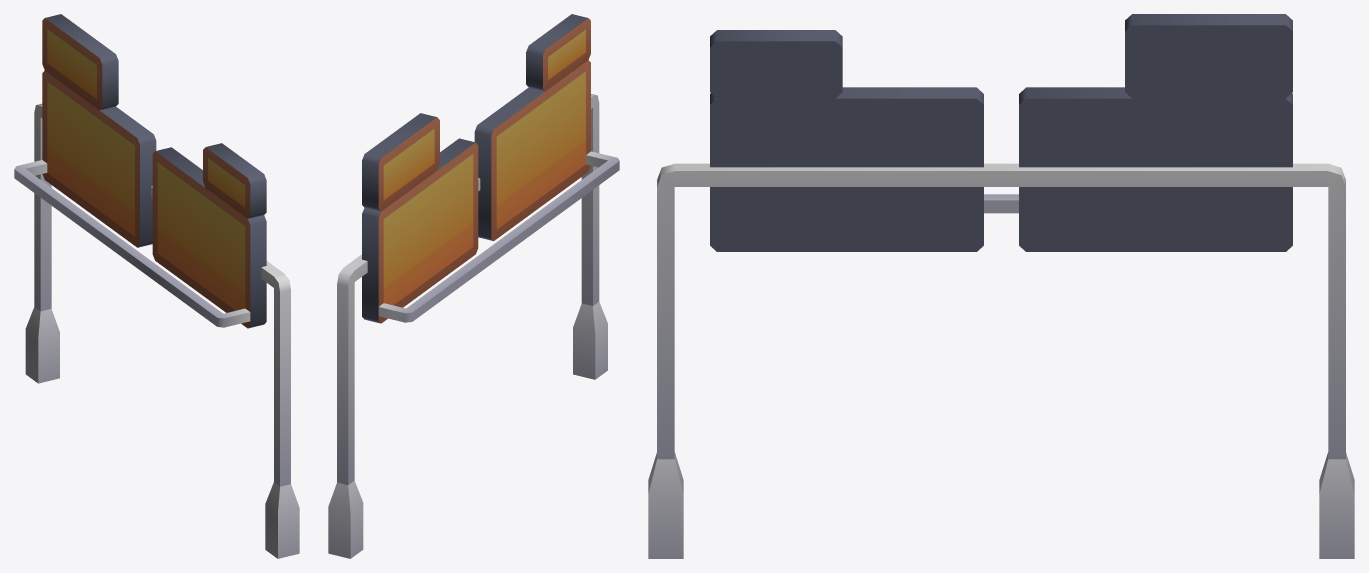
The model's file is sign-highway-detailed.glb.
The picture shows the model from 3 angles, left to right: view 1: azimuth 30°, elevation 25°; view 2: azimuth 150°, elevation 25°; view 3: azimuth 270°, elevation 25°; orthographic projection. The views are drawn at different scales.
Parts seen in each view (by area): view 1: sign-highway-detailed; view 2: sign-highway-detailed; view 3: sign-highway-detailed.
Boxes of the visible parts, x1,y1,x2,y2 form: sign-highway-detailed: [14, 14, 299, 558]; sign-highway-detailed: [328, 14, 619, 558]; sign-highway-detailed: [648, 14, 1354, 558].
Size of the model in its own units: 0.1324 by 0.8221 by 1.
